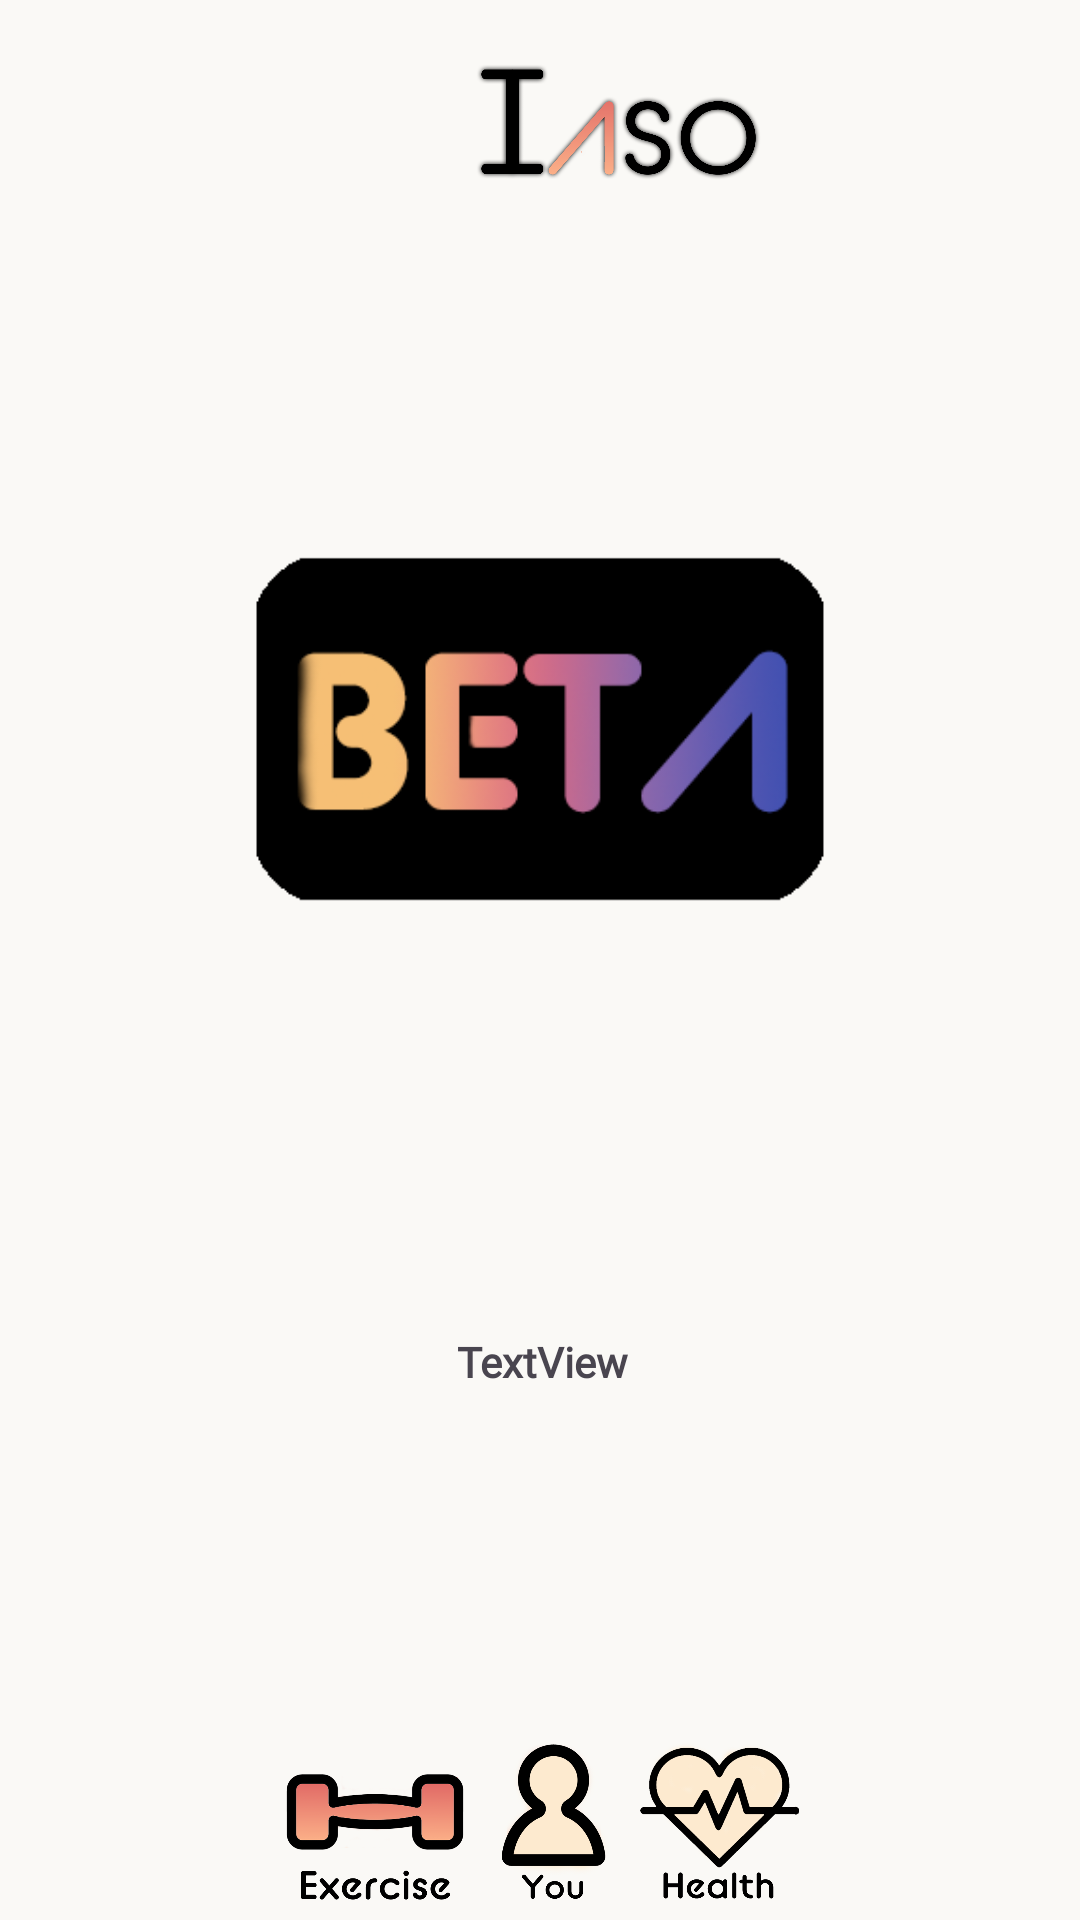

Where to tap for icons on this 1080*1920 app screen, as [x,y]:
personimagetext: [554,1821]
